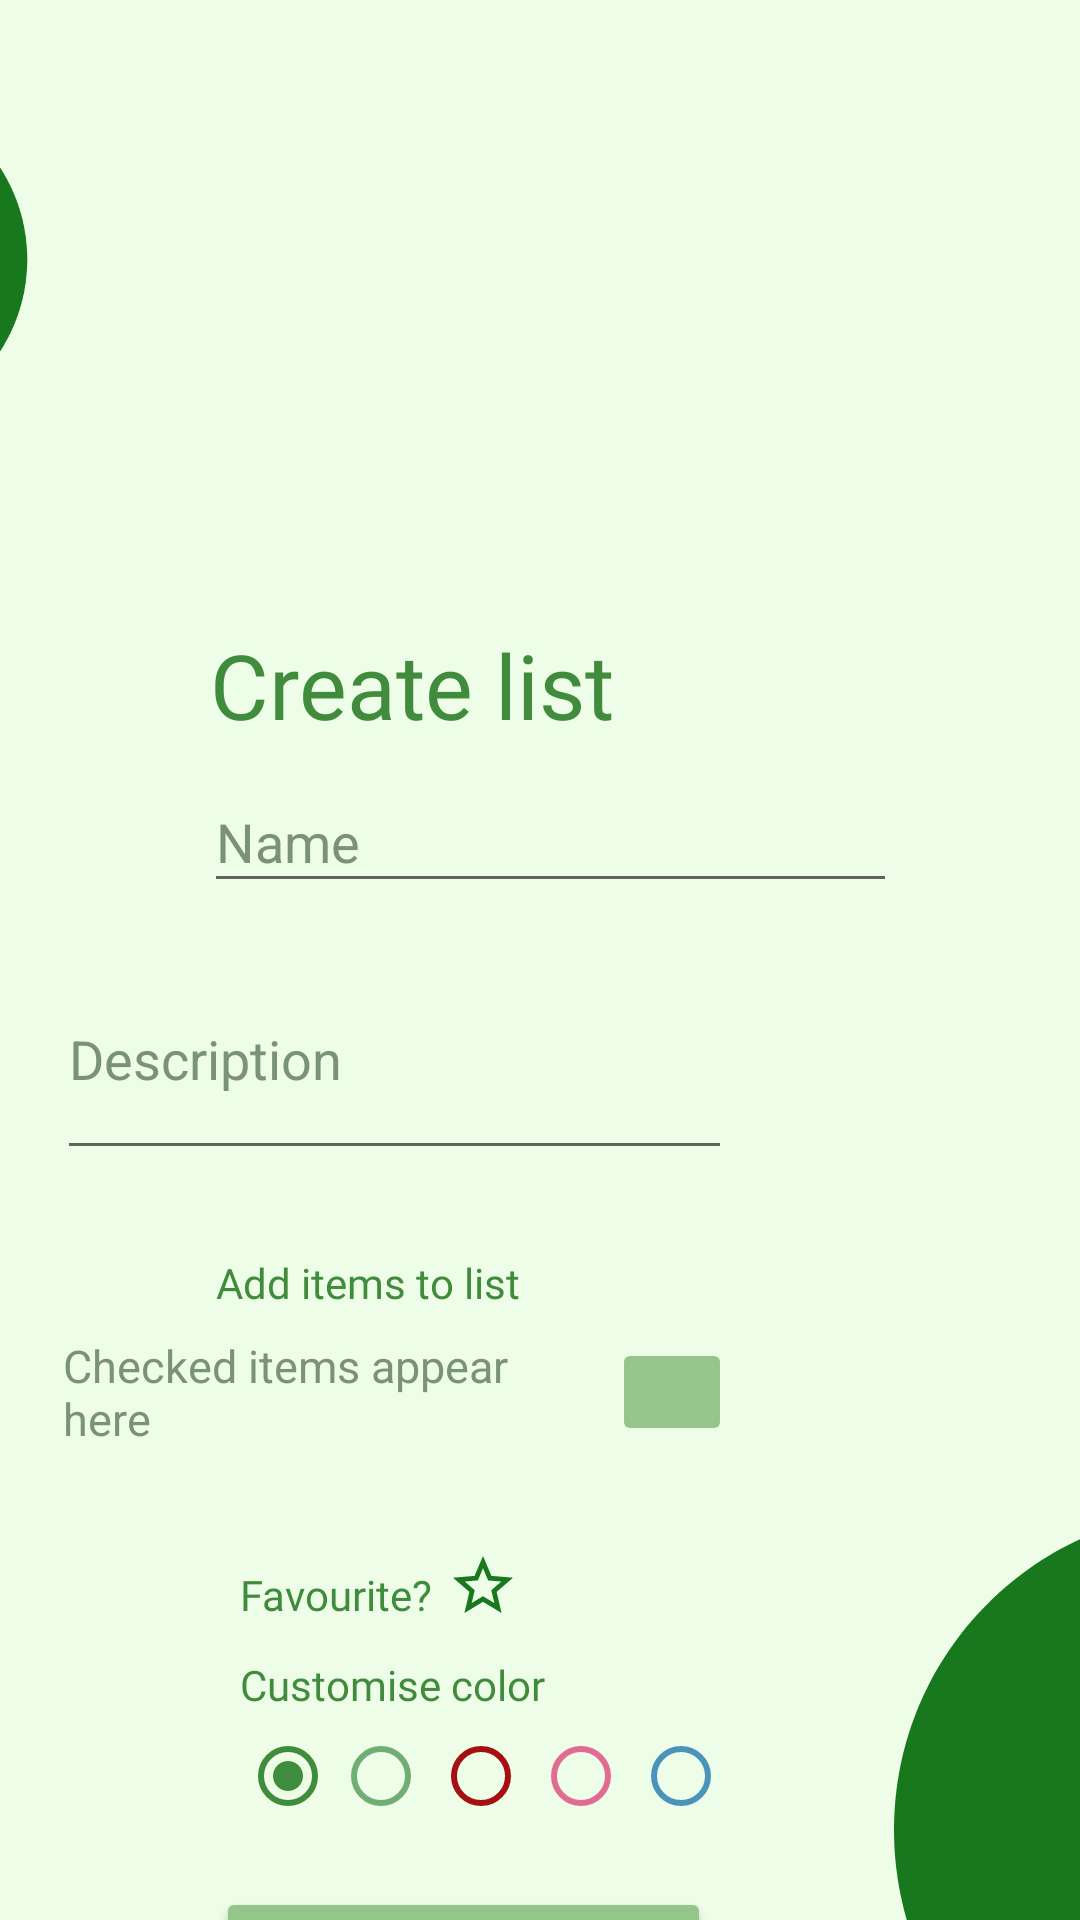

Screen size 1080w x 1920h. Icon name, then its center in pixels as point (x, y):
star: point (483, 1584)
